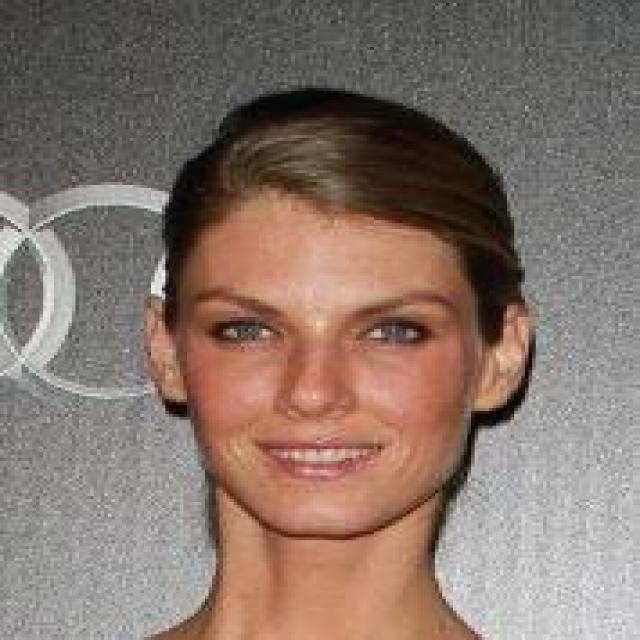nomask: (155, 70, 590, 576)
